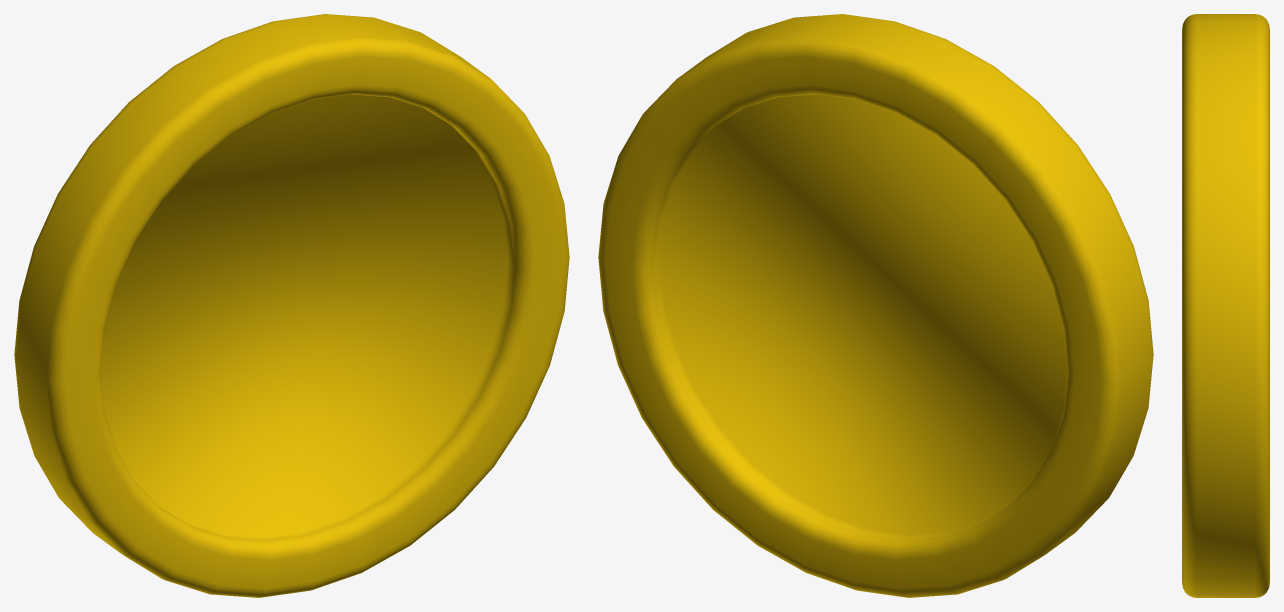
The model's file is Coin.fbx.
3 renders of one model, left to right at view 1: azimuth 30°, elevation 25°; view 2: azimuth 150°, elevation 25°; view 3: azimuth 270°, elevation 25°, orthographic. The views are drawn at different scales.
Parts seen in each view (by area): view 1: Cylinder; view 2: Cylinder; view 3: Cylinder.
Boxes of the visible parts, bbox=[...] form: Cylinder: bbox=[14, 14, 569, 597]; Cylinder: bbox=[598, 14, 1153, 597]; Cylinder: bbox=[1182, 14, 1269, 597].
Size of the model in its own units: 200 by 30 by 200.
